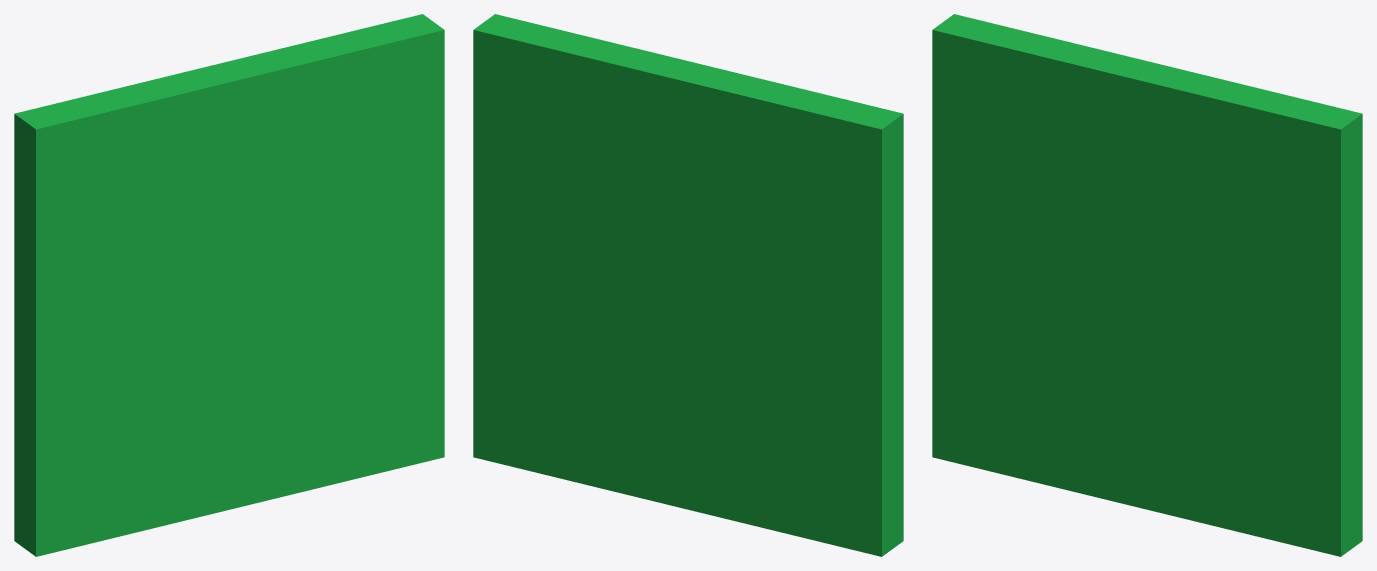
The model's file is board.obj.
The picture shows the model from 3 angles, left to right: view 1: azimuth 30°, elevation 25°; view 2: azimuth 150°, elevation 25°; view 3: azimuth 330°, elevation 25°; orthographic projection.
Parts seen in each view (by area): view 1: Object.1; view 2: Object.1; view 3: Object.1.
Boxes of the visible parts, left/top/right/bottom form: Object.1: left=14, top=14, right=444, bottom=556; Object.1: left=473, top=14, right=903, bottom=556; Object.1: left=932, top=14, right=1362, bottom=556.
Size of the model in its own units: 40 by 40 by 3.68.
